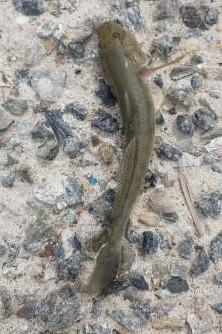fish: (88, 21, 183, 293)
